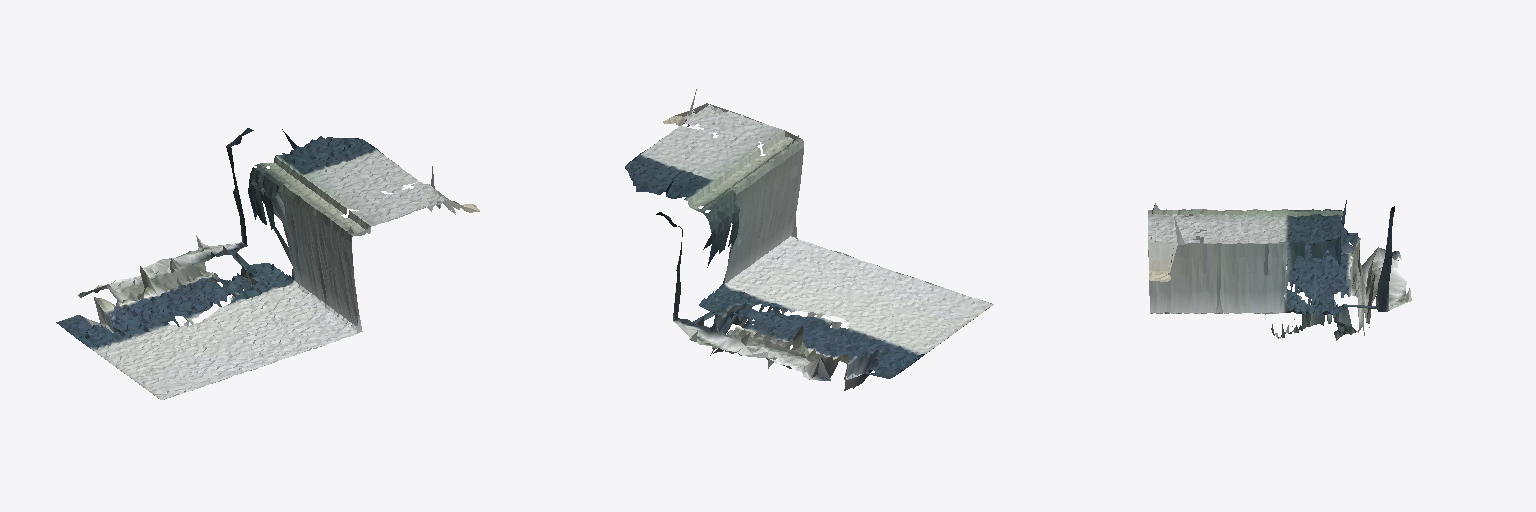
The picture shows the model from 3 angles: view 1: azimuth 30°, elevation 25°; view 2: azimuth 150°, elevation 25°; view 3: azimuth 270°, elevation 25°; orthographic projection.
Size of the model in its own units: 1.17 by 0.6923 by 0.8245.
1 materials, 1 textured.